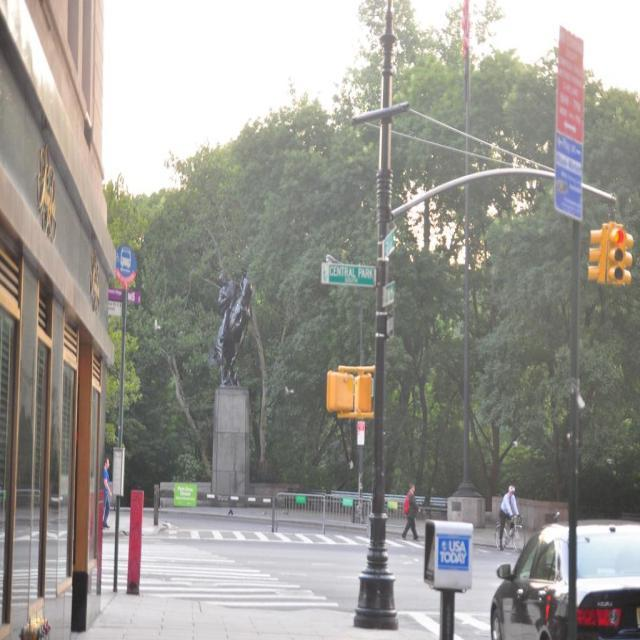traffic light: (607, 219, 626, 284)
